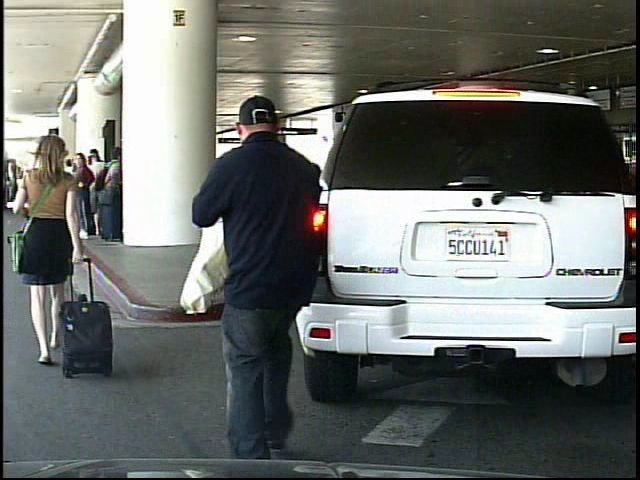person: (194, 91, 356, 463), (5, 127, 94, 387)
